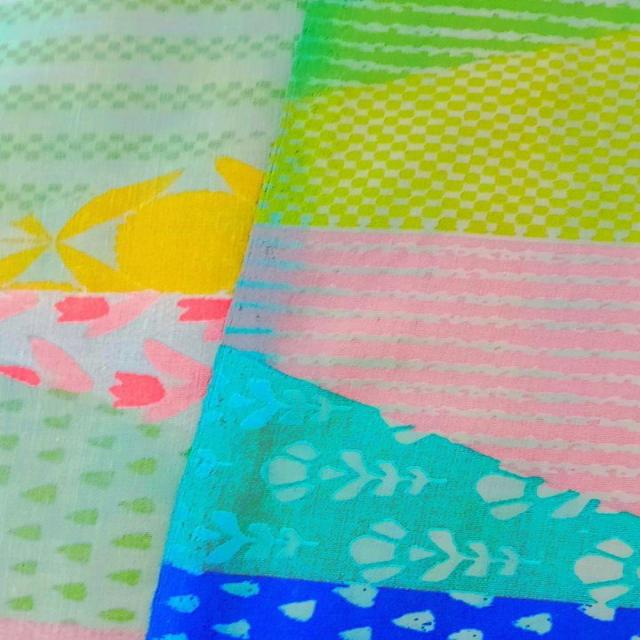color issues: (126, 50, 366, 637)
